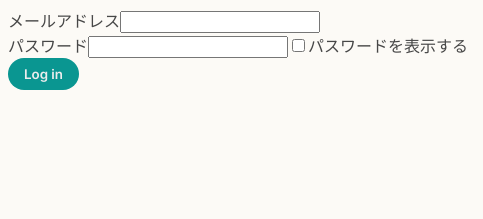
Scenario: LoginForm › should render error if invalid input
What coordinates should you click on to do the following:
click the button "Log in"
I would click on:
 (44, 74)
Its box is x1=8 y1=58 x2=79 y2=90.
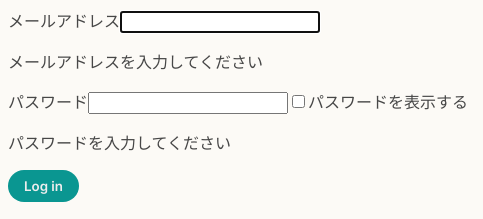
Now the message named "email-input-error" is shown, box x1=8 y1=52 x2=263 y2=72
Now the message named "password-input-error" is shown, box x1=8 y1=133 x2=231 y2=153
